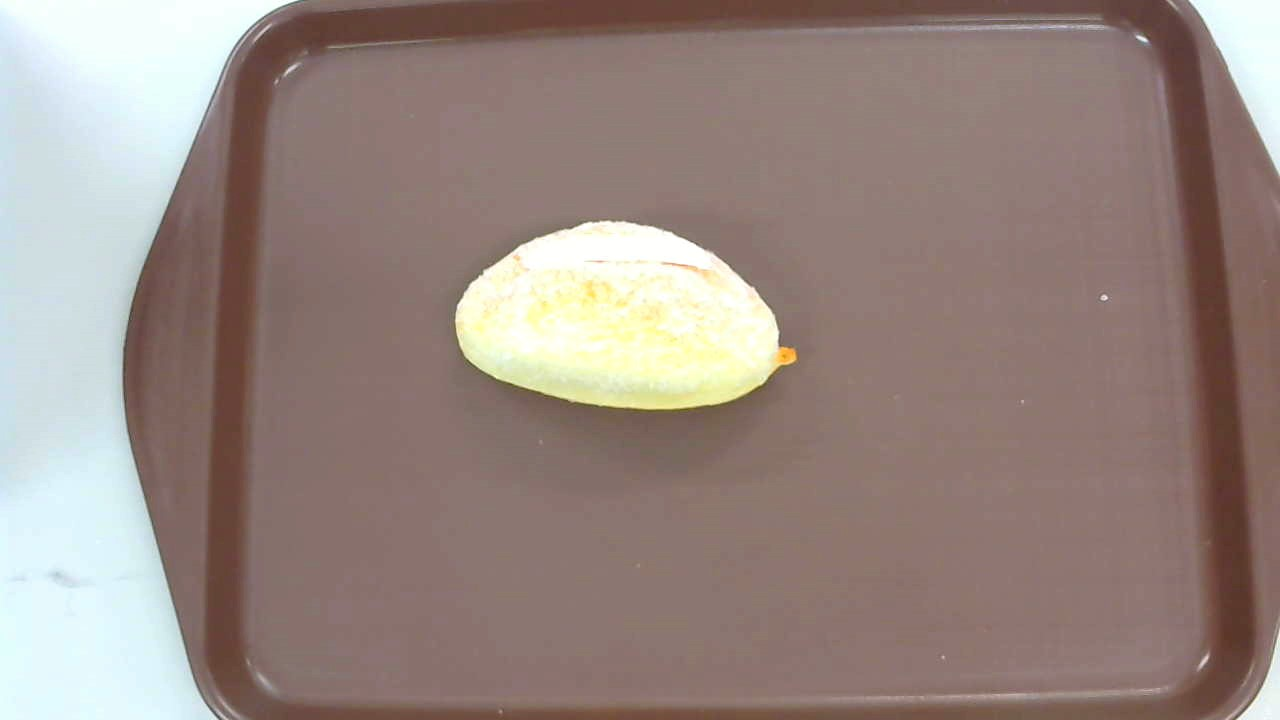coconut: (455, 221, 798, 414)
